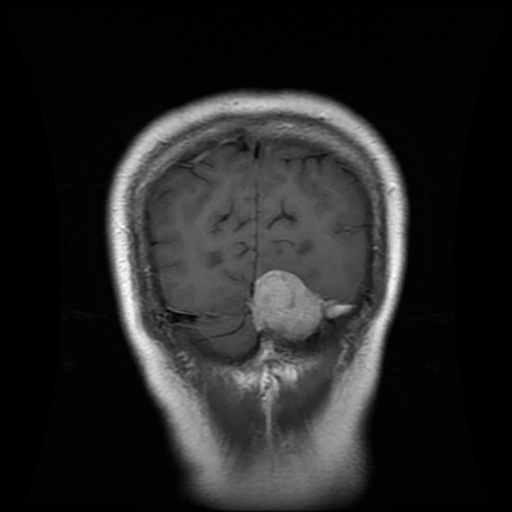meningioma: (248, 267, 355, 343)
